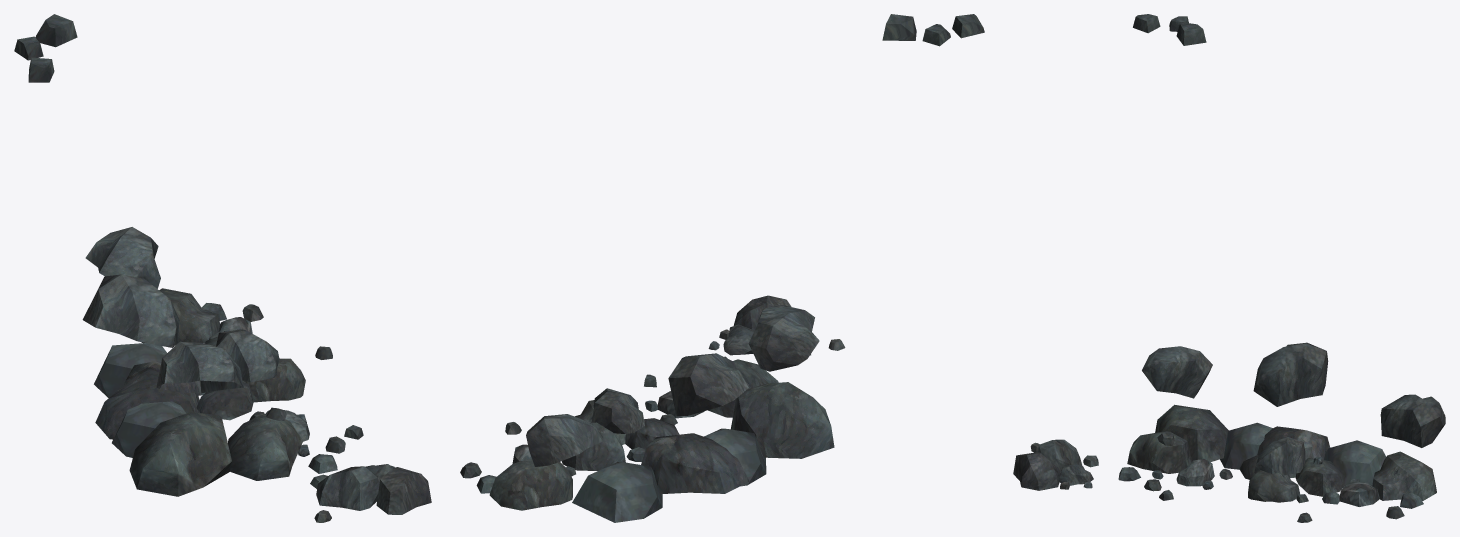
The model's file is object_rubble21.fbx.
3 renders of one model, left to right at view 1: azimuth 30°, elevation 25°; view 2: azimuth 150°, elevation 25°; view 3: azimuth 270°, elevation 25°, orthographic. The views are drawn at different scales.
Visible parts, largest first — view 1: Material_#238683587/cliffside; view 2: Material_#238683587/cliffside; view 3: Material_#238683587/cliffside.
Part boxes in pixels (left/top/right/bottom): Material_#238683587/cliffside: left=14, top=14, right=431, bottom=522; Material_#238683587/cliffside: left=460, top=14, right=984, bottom=522; Material_#238683587/cliffside: left=1013, top=14, right=1445, bottom=522.
Bounding box in the file's own units: 9.27 × 10.58 × 11.
